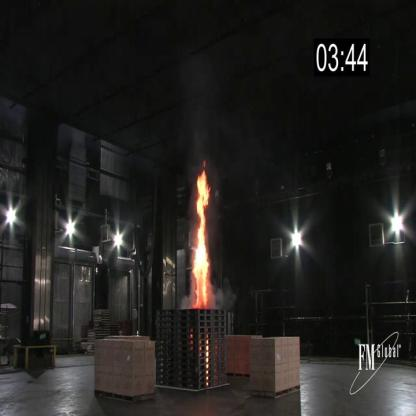fire: (191, 158, 213, 312)
